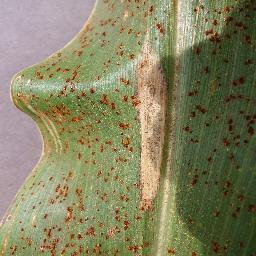Corn_Blight: (1, 26, 129, 255), (133, 21, 169, 225), (201, 54, 256, 179), (191, 1, 255, 53), (129, 231, 254, 255), (71, 0, 170, 25), (201, 182, 254, 226), (184, 76, 199, 198), (180, 210, 198, 228)
